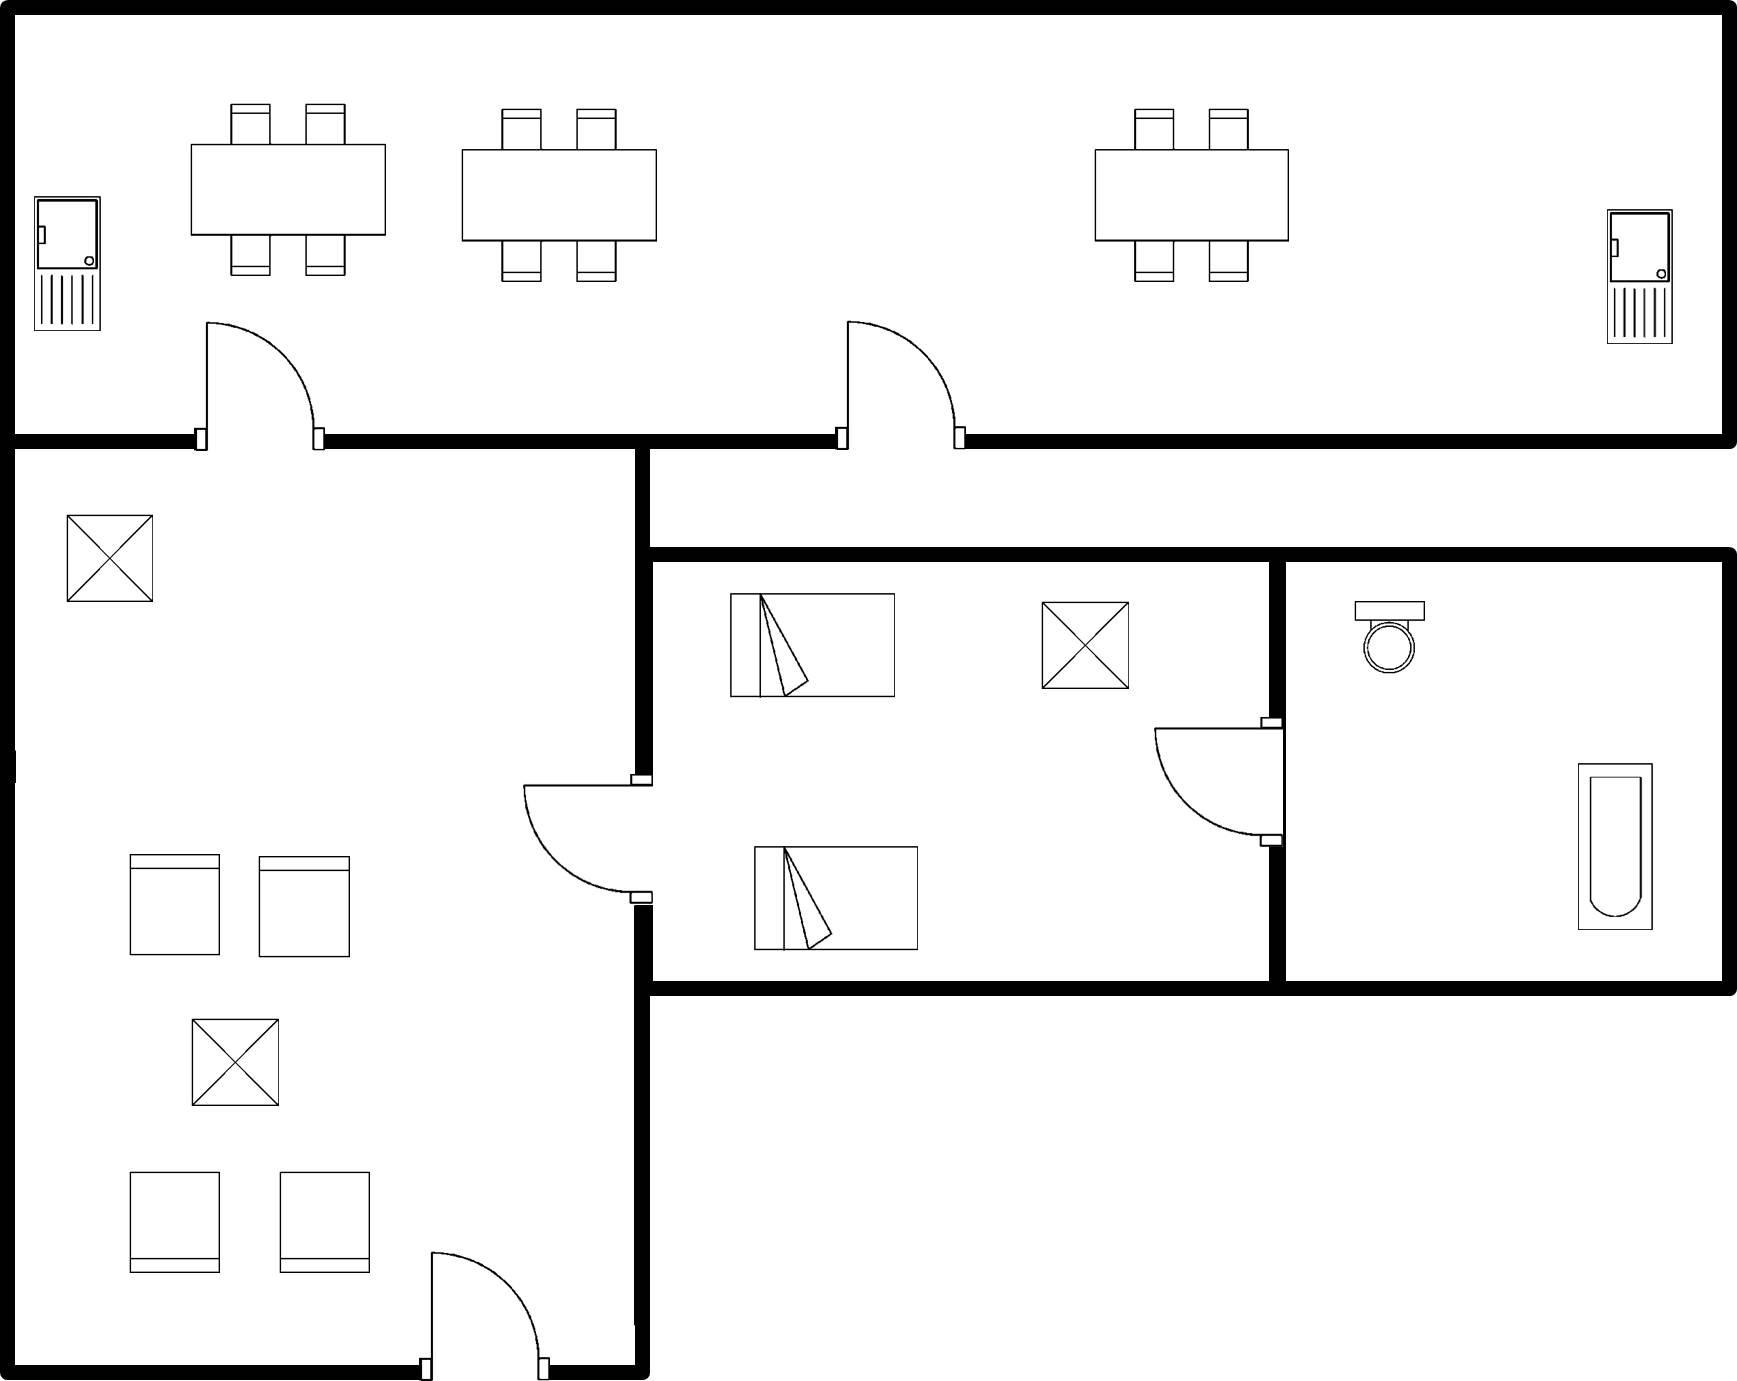bed: (718, 578, 904, 707), (740, 836, 926, 957)
dining_table: (1080, 97, 1307, 296), (447, 97, 680, 289), (176, 94, 400, 287)
sink: (1590, 196, 1685, 354), (23, 185, 111, 341)
toilet: (1338, 588, 1434, 681)
tub: (1564, 751, 1671, 946)
